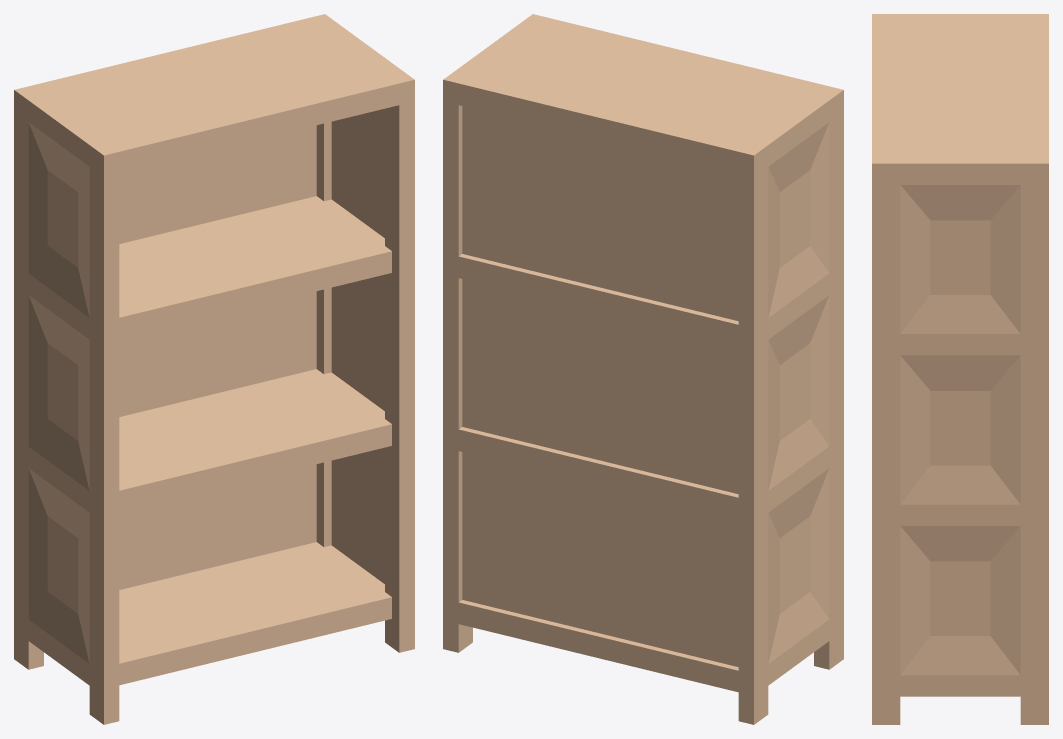
File: wardrobe.glb
3 views of the same model, side by side, from view 1: azimuth 30°, elevation 25°; view 2: azimuth 150°, elevation 25°; view 3: azimuth 270°, elevation 25° (orthographic).
Visible parts, largest first — view 1: bookcaseClosedWide(Clone); view 2: bookcaseClosedWide(Clone); view 3: bookcaseClosedWide(Clone).
Boxes of the visible parts, box(x1,y1,x2,y2) form: bookcaseClosedWide(Clone): box(14, 14, 414, 724); bookcaseClosedWide(Clone): box(443, 14, 843, 724); bookcaseClosedWide(Clone): box(872, 14, 1048, 724).
Size of the model in its own units: 1.2 by 2.1 by 0.6001.
